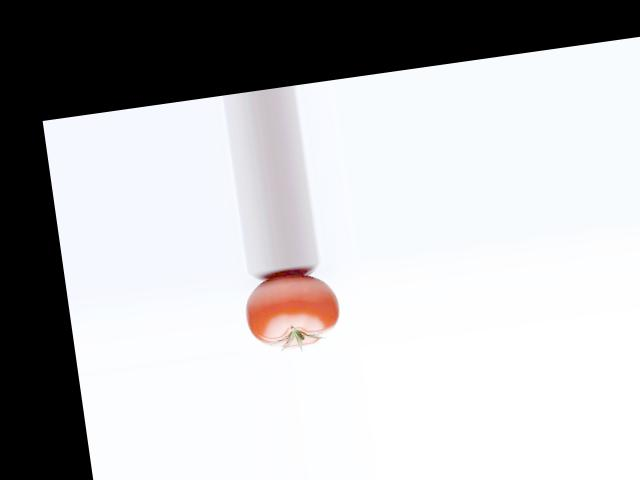tomato: (241, 269, 343, 353)
